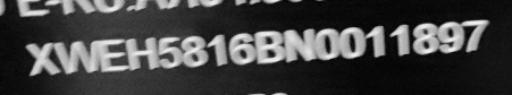letter: (54, 38, 98, 75), (124, 34, 160, 71), (22, 42, 60, 77), (284, 27, 316, 64), (253, 30, 285, 65), (96, 36, 126, 73), (228, 29, 256, 68), (157, 34, 185, 73), (460, 17, 490, 52), (436, 20, 466, 55), (180, 34, 208, 69), (388, 22, 414, 59), (339, 26, 367, 59), (412, 21, 438, 56), (316, 25, 340, 62), (366, 23, 388, 60), (206, 32, 228, 69)
